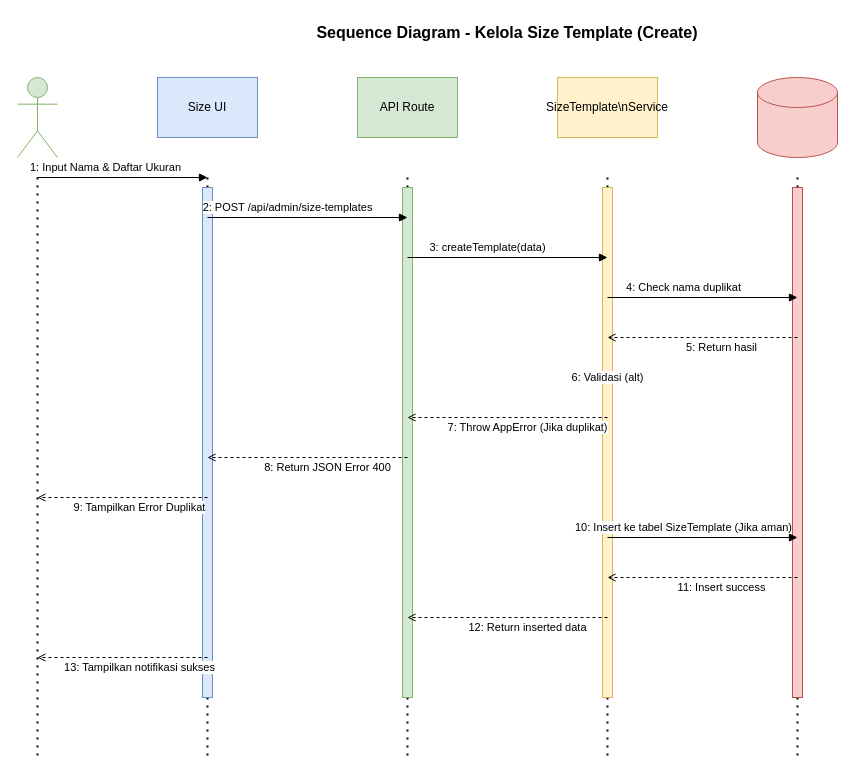
Some shapes in this 855 by 776 pixel diagram are drawn without their labels. The shapes that lost their labels are listed below. From the top down, each one's centre as x and y in pixels, then its label:
At [37,117]: "Admin".
At [797,117]: "Database".
